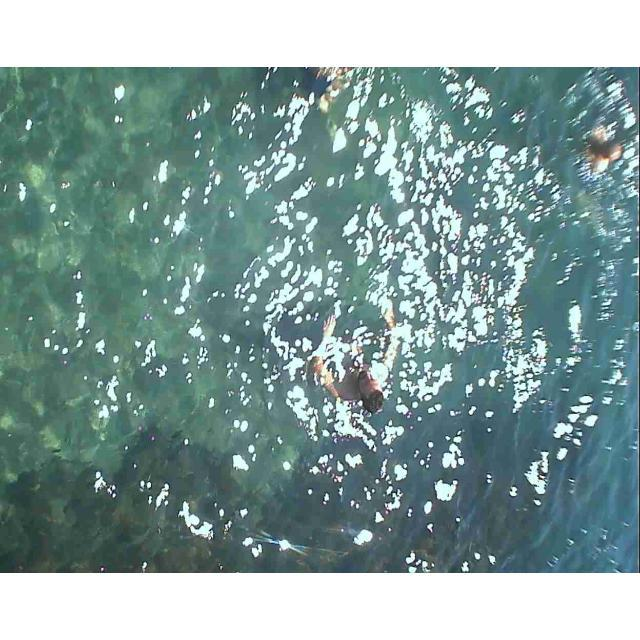human: (313, 317, 404, 414), (590, 128, 629, 185)
